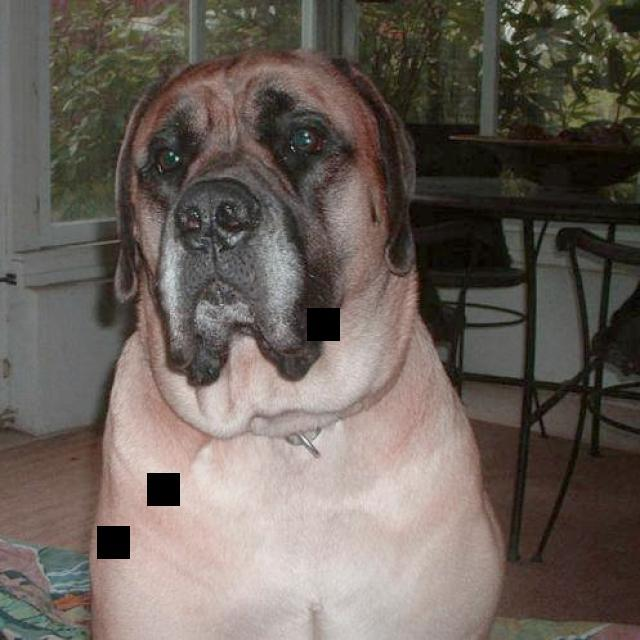adult_dog: (80, 54, 510, 633)
